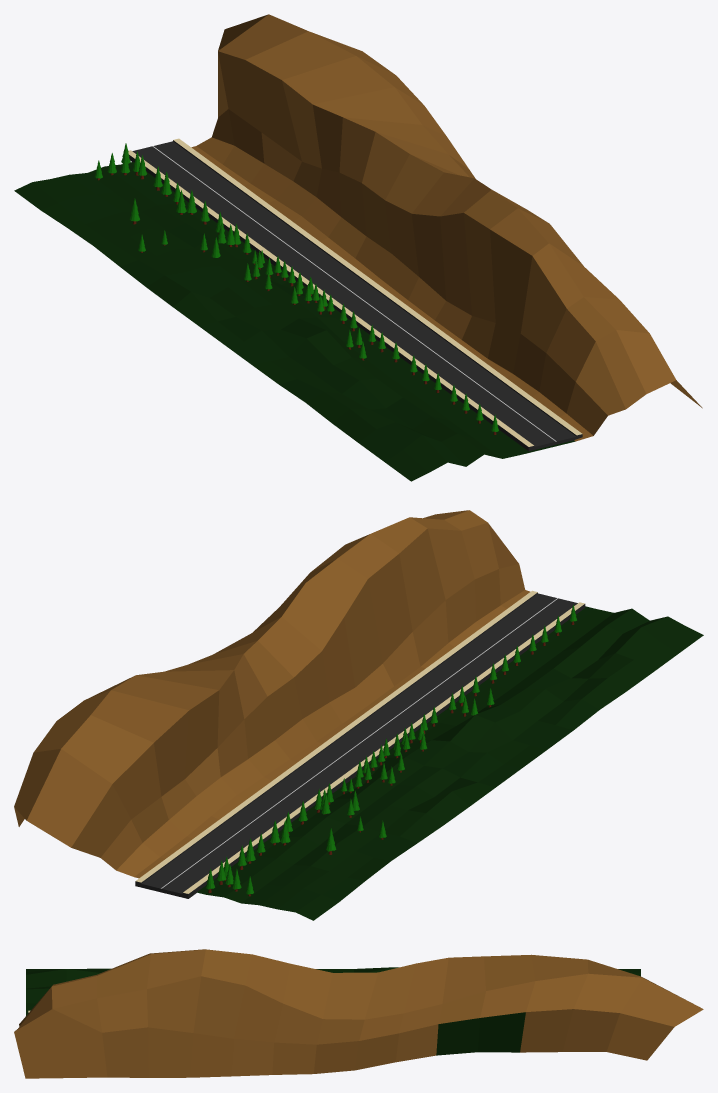
The model's file is env.obj.
3 renders of one model, top to bottom at view 1: azimuth 30°, elevation 25°; view 2: azimuth 150°, elevation 25°; view 3: azimuth 270°, elevation 25°, orthographic. The views are drawn at different scales.
Parts seen in each view (by area): view 1: Plane, Cube_Cube.001; view 2: Plane, Cube_Cube.001; view 3: Plane.
Part boxes in pixels (<box>): Plane: <box>14,14,702,481</box>; Cube_Cube.001: <box>128,138,582,451</box>; Plane: <box>14,510,703,920</box>; Cube_Cube.001: <box>135,590,585,898</box>; Plane: <box>14,949,703,1078</box>.
Bounding box in the file's own units: 31.85 × 13.45 × 79.21.
